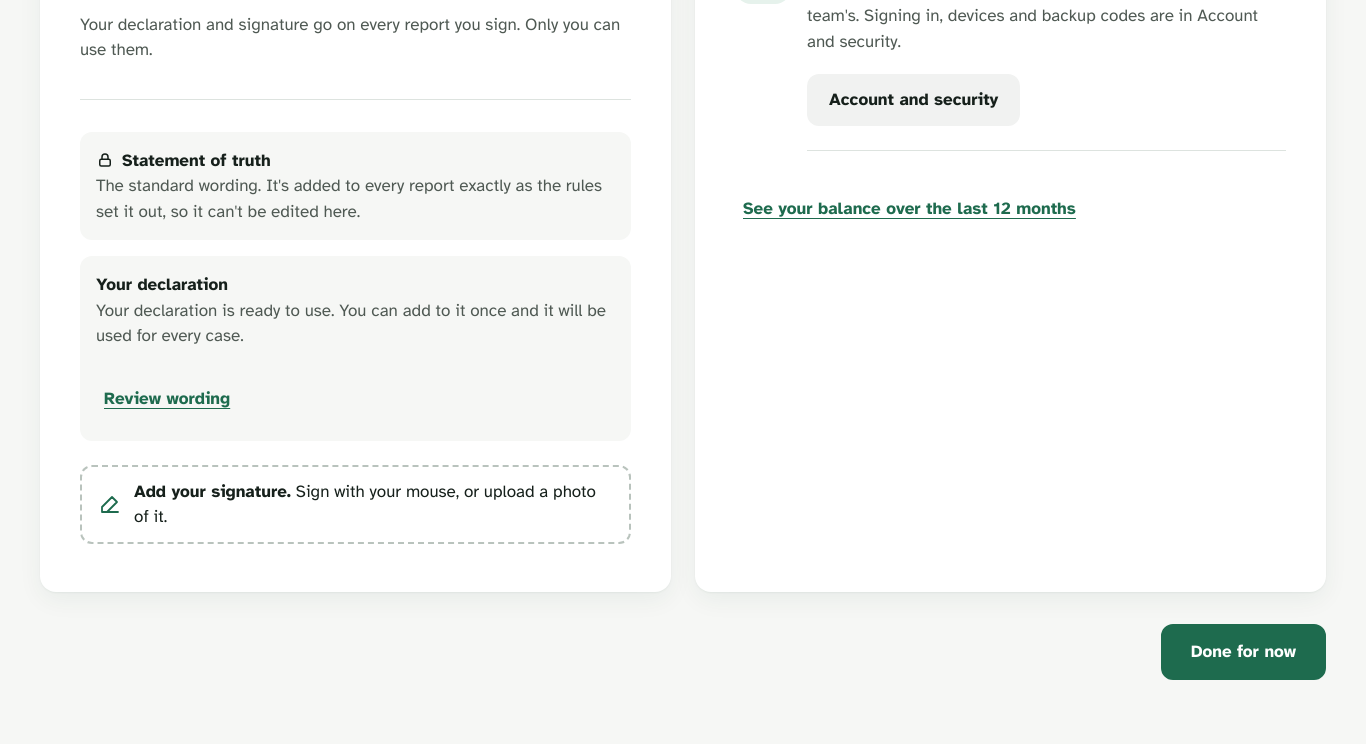
Scenario: declaration additions: the choice shows both, and keep the saved one sends nothing more
(page scrolled)
Click the button "Review wording" at (167,398), box x1=96 y1=372 x2=238 y2=424
(page scrolled)
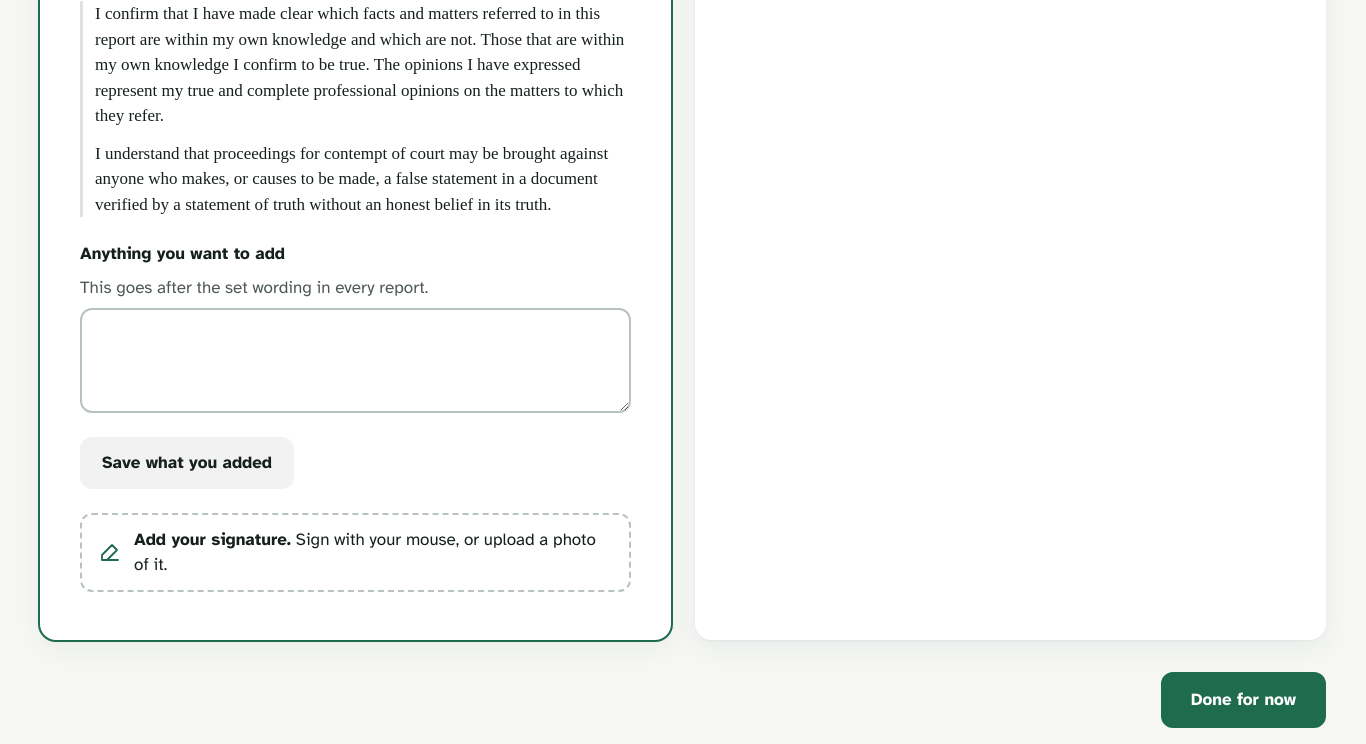
Type "My own addition" into the text box labelled "Anything you want to add" at (356,361), box x1=80 y1=308 x2=631 y2=413
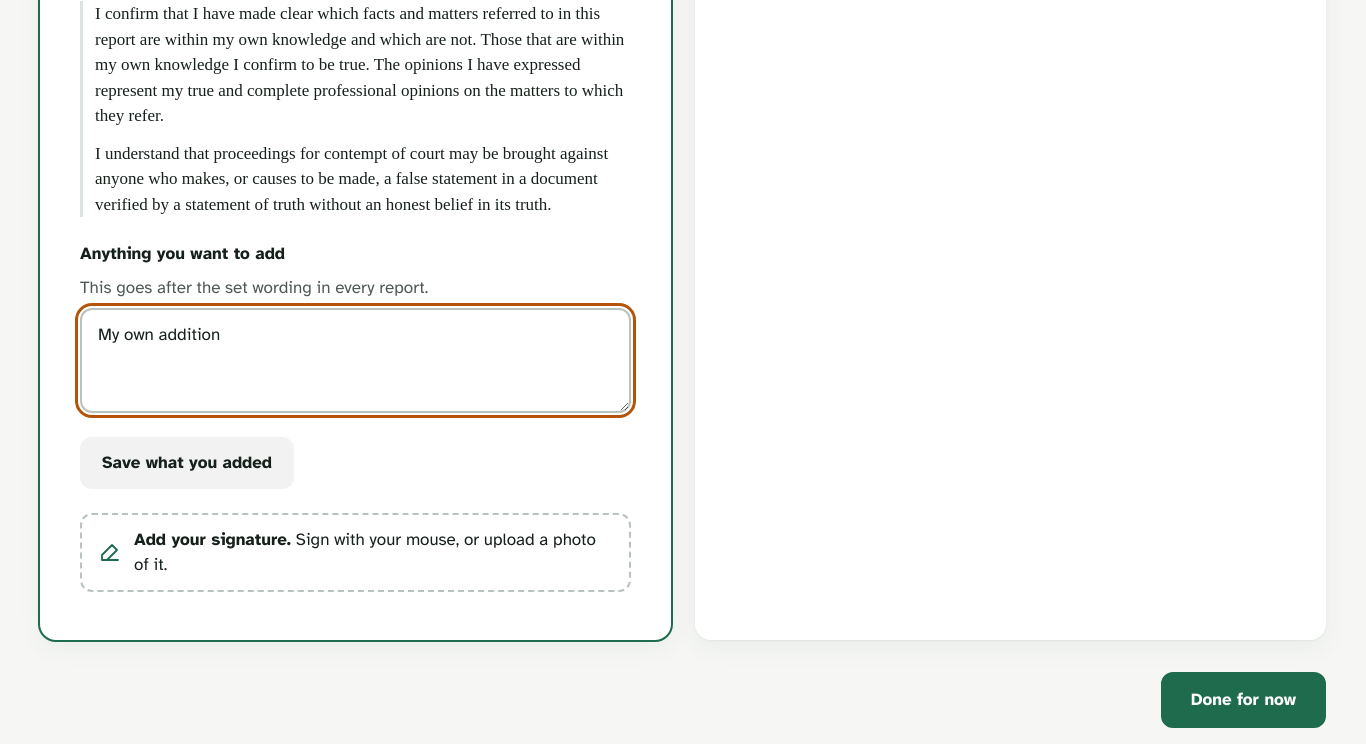
Click the button "Save what you added" at (187,463), box x1=80 y1=437 x2=294 y2=489
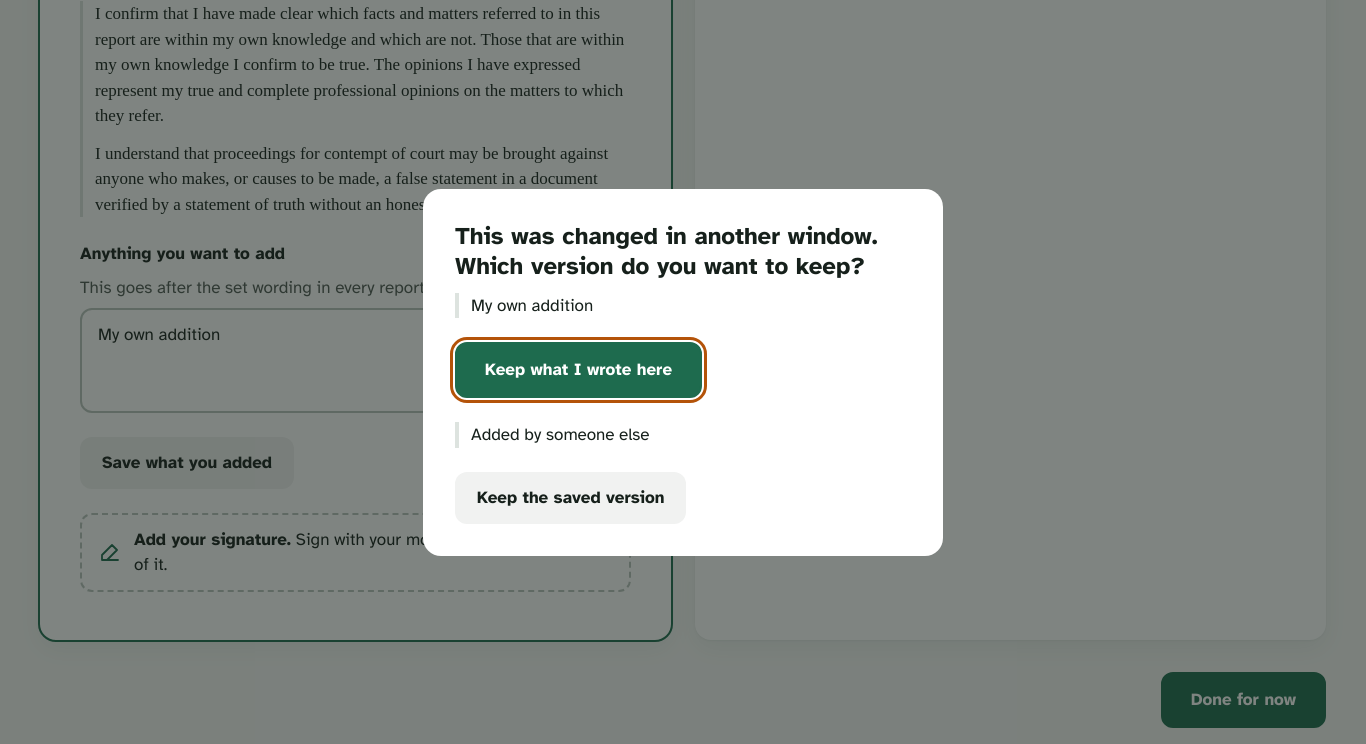
Now the text "My own addition" is shown, box x1=455 y1=292 x2=911 y2=318
Now the text "Added by someone else" is shown, box x1=455 y1=422 x2=911 y2=448
Click the button "Keep the saved version" at (571,498), box x1=455 y1=472 x2=686 y2=524
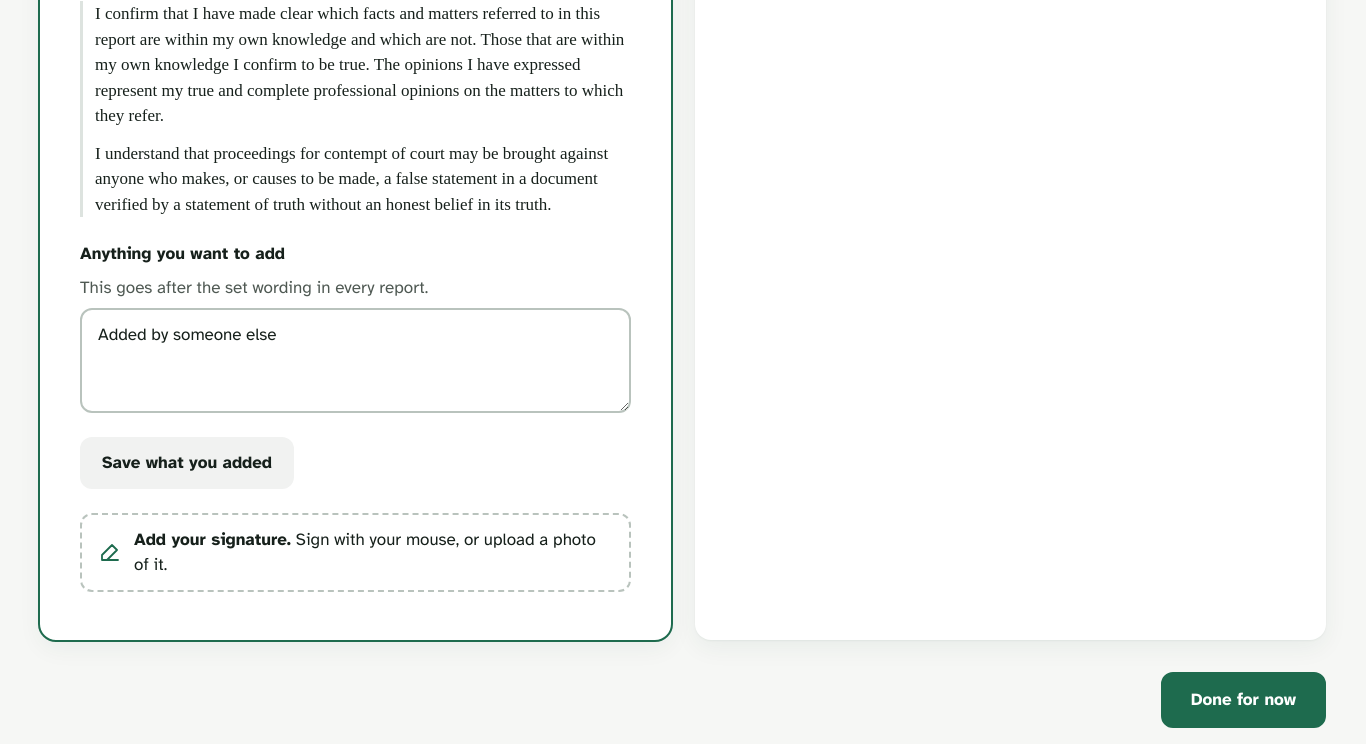
Now the dialog is gone
Now the text box showing "Added by someone else" is shown, box x1=80 y1=308 x2=631 y2=413
